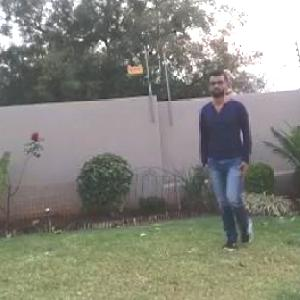follow: (199, 75, 251, 232)
